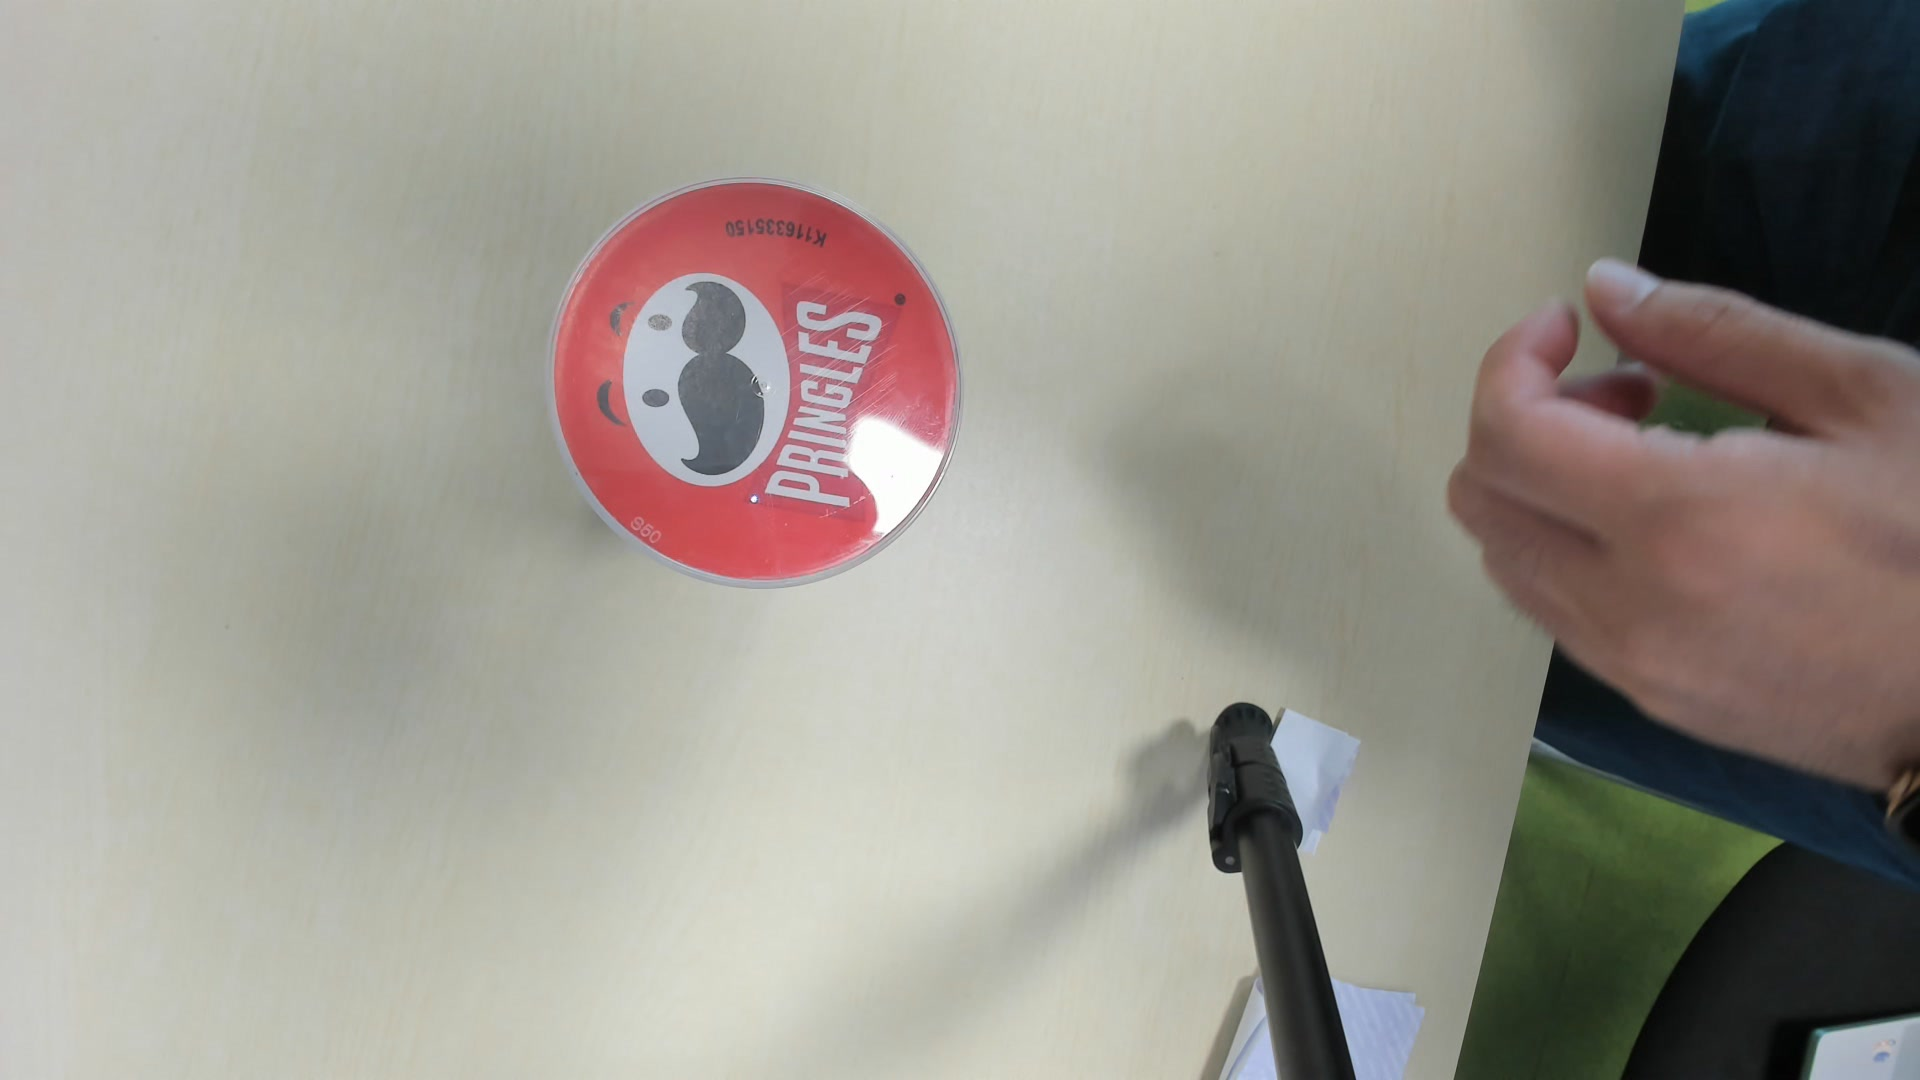PotatoChipsKeropok_0-99g_NonHalal_NonHealthy: (551, 178, 973, 595)
